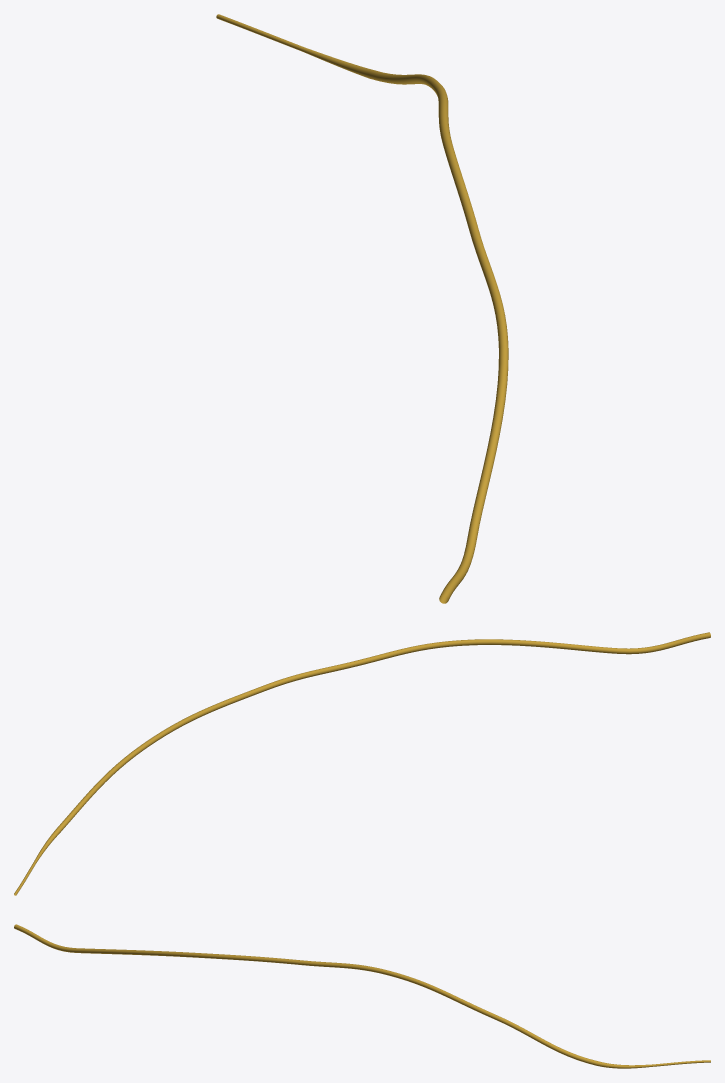
3 views of the same model, one above another, from view 1: azimuth 30°, elevation 25°; view 2: azimuth 150°, elevation 25°; view 3: azimuth 270°, elevation 25° (orthographic). The views are drawn at different scales.
Parts seen in each view (by area): view 1: 左侧桡神经; view 2: 左侧桡神经; view 3: 左侧桡神经.
Boxes of the visible parts, x1,y1,x2,y2 form: 左侧桡神经: (216, 14, 508, 603); 左侧桡神经: (14, 632, 710, 895); 左侧桡神经: (14, 924, 710, 1068).
Bounding box in the file's own units: 0.1818 × 0.0468 × 0.4245.
